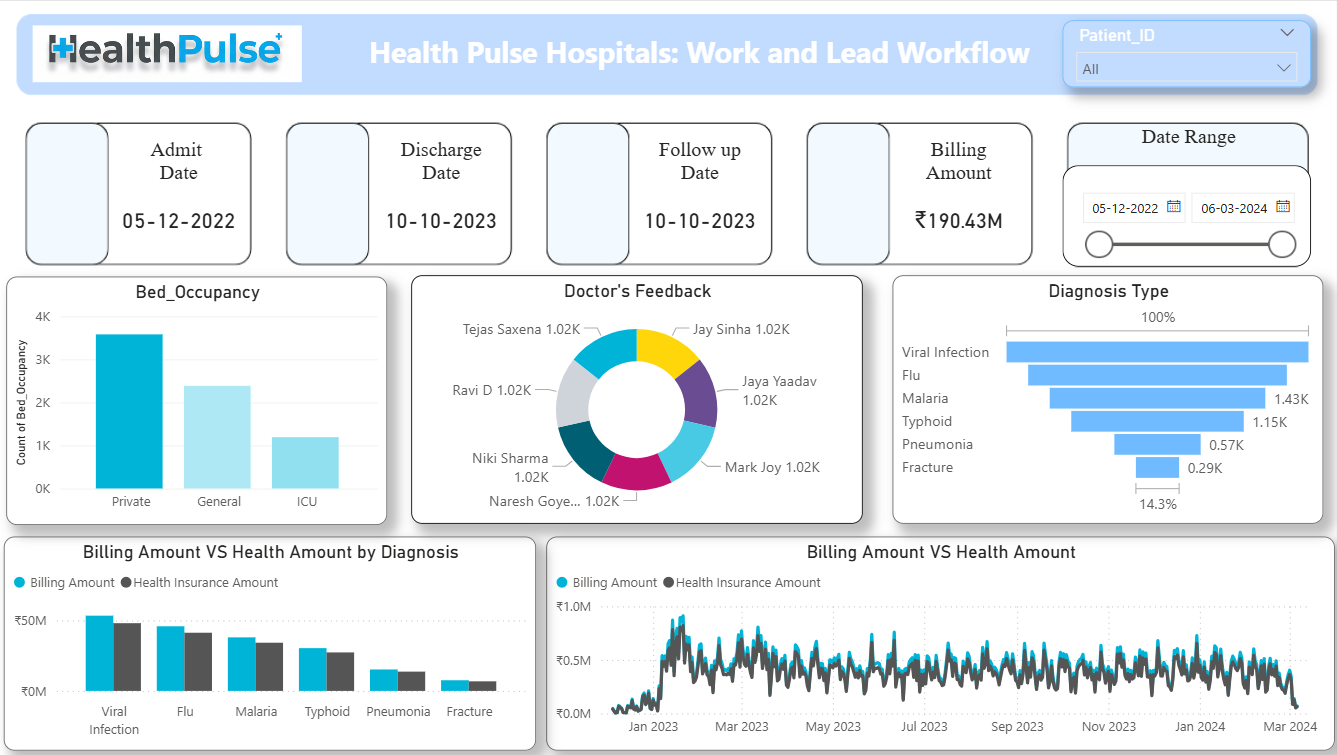

What the dashboard file says about the page in this screenshot:
{"tool":"powerbi","page":{"name":"HealthPulse dashboard","canvas":[1280,720],"ordinal":0},"visuals":[{"type":"image","box":[44.2,24.4,260.5,62.8],"z":0},{"type":"textbox","box":[322.1,30.2,694.2,51.2],"z":1000},{"type":"slicer","fields":{"Values":["HealthPulseDataset.Patient_ID"]},"box":[1007,24.4,231.4,62.8],"z":2000},{"type":"textbox","box":[124.4,129.1,120.9,60.5],"z":3000},{"type":"card","fields":{"Values":["HealthPulseDataset.Admit_Date"]},"box":[124.4,189.5,120.9,44.2],"z":4000},{"type":"textbox","box":[379.1,129.1,100,60.5],"z":5000},{"type":"card","fields":{"Values":["HealthPulseDataset.Discharge_Date"]},"box":[368.6,189.5,120.9,44.2],"z":6000},{"type":"textbox","box":[619.8,129.1,100,60.5],"z":7000},{"type":"card","fields":{"Values":["HealthPulseDataset.Followup Date"]},"box":[609.3,189.5,120.9,44.2],"z":8000},{"type":"textbox","box":[860.5,129.1,100,60.5],"z":9000},{"type":"card","fields":{"Values":["HealthPulseDataset.Billing Amount"]},"box":[850,189.5,120.9,44.2],"z":10000},{"type":"slicer","fields":{"Values":["HealthPulseDataset.Admit_Date"]},"box":[1007,159.3,231.4,94.2],"z":11000},{"type":"columnChart","title":"Bed_Occupancy","fields":{"Category":["HealthPulseDataset.Bed_Occupancy"],"Y":["HealthPulseDataset.Bed_Occupancy"]},"box":[24.4,262.8,354.7,231.4],"z":12000},{"type":"donutChart","title":"Doctor''s Feedback","fields":{"Category":["HealthPulseDataset.Doctor"],"Y":["HealthPulseDataset.Doctor"]},"box":[401.2,261.6,419.8,231.4],"z":13000},{"type":"funnel","title":"Diagnosis Type","fields":{"Category":["HealthPulseDataset.Diagnosis"],"Y":["HealthPulseDataset.Diagnosis"]},"box":[848.8,261.6,401.2,231.4],"z":14000},{"type":"lineChart","title":"Billing Amount VS Health Amount ","fields":{"Y":["HealthPulseDataset.Billing Amount","HealthPulseDataset.Health Insurance Amount"],"Category":["HealthPulseDataset.Admit_Date.Variation.Date Hierarchy.Year","HealthPulseDataset.Admit_Date.Variation.Date Hierarchy.Quarter","HealthPulseDataset.Admit_Date.Variation.Date Hierarchy.Month","HealthPulseDataset.Admit_Date.Variation.Date Hierarchy.Day"]},"box":[526.7,504.7,733.7,198.8],"z":15000},{"type":"textbox","box":[1025.6,117.4,197.7,41.9],"z":16000},{"type":"clusteredColumnChart","title":"Billing Amount VS Health Amount by Diagnosis","fields":{"Category":["HealthPulseDataset.Diagnosis"],"Y":["HealthPulseDataset.Billing Amount","HealthPulseDataset.Health Insurance Amount"]},"box":[22.1,504.7,495.4,198.8],"z":17000}]}

Visuals, with their boxes in screenshot pixels (x1, y1, x2, y2), scaled from the page's 1280x720 canvas onto the 1337x755 screenshot:
image: 46/26/318/91
textbox: 336/32/1062/85
slicer - HealthPulseDataset.Patient_ID: 1052/26/1294/91
textbox: 130/135/256/199
card - HealthPulseDataset.Admit_Date: 130/199/256/245
textbox: 396/135/500/199
card - HealthPulseDataset.Discharge_Date: 385/199/511/245
textbox: 647/135/752/199
card - HealthPulseDataset.Followup Date: 636/199/763/245
textbox: 899/135/1003/199
card - HealthPulseDataset.Billing Amount: 888/199/1014/245
slicer - HealthPulseDataset.Admit_Date: 1052/167/1294/266
"Bed_Occupancy" columnChart: 25/276/396/518
"Doctor''s Feedback" donutChart: 419/274/858/517
"Diagnosis Type" funnel: 887/274/1306/517
"Billing Amount VS Health Amount " lineChart: 550/529/1317/738
textbox: 1071/123/1278/167
"Billing Amount VS Health Amount by Diagnosis" clusteredColumnChart: 23/529/541/738
